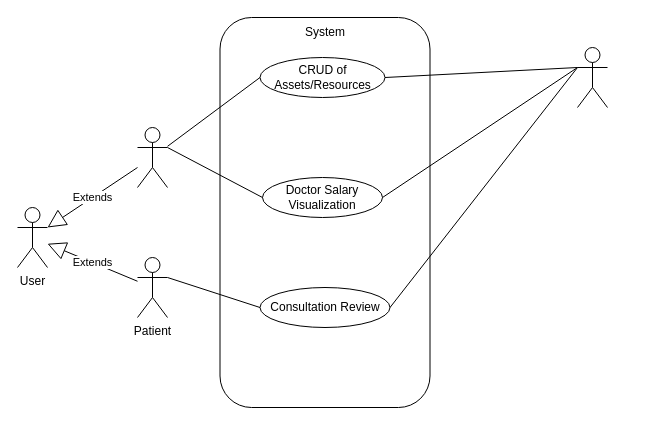
Some shapes in this 657 by 425 pixel diagram are drawn without their labels. Here are the shapes that lost their labels. From the top down, the box of each, then its label:
(576, 46, 608, 108): Database Service
(136, 126, 168, 188): Admin
